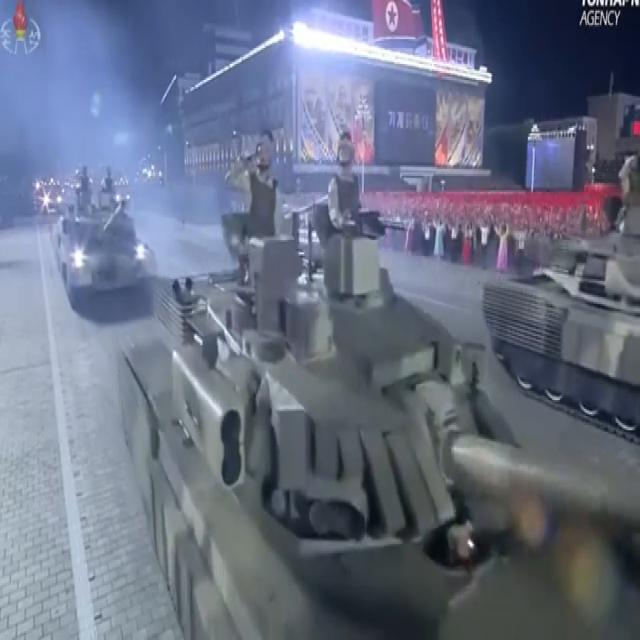north tank: (96, 208, 640, 639), (476, 199, 640, 432), (56, 161, 159, 301)
